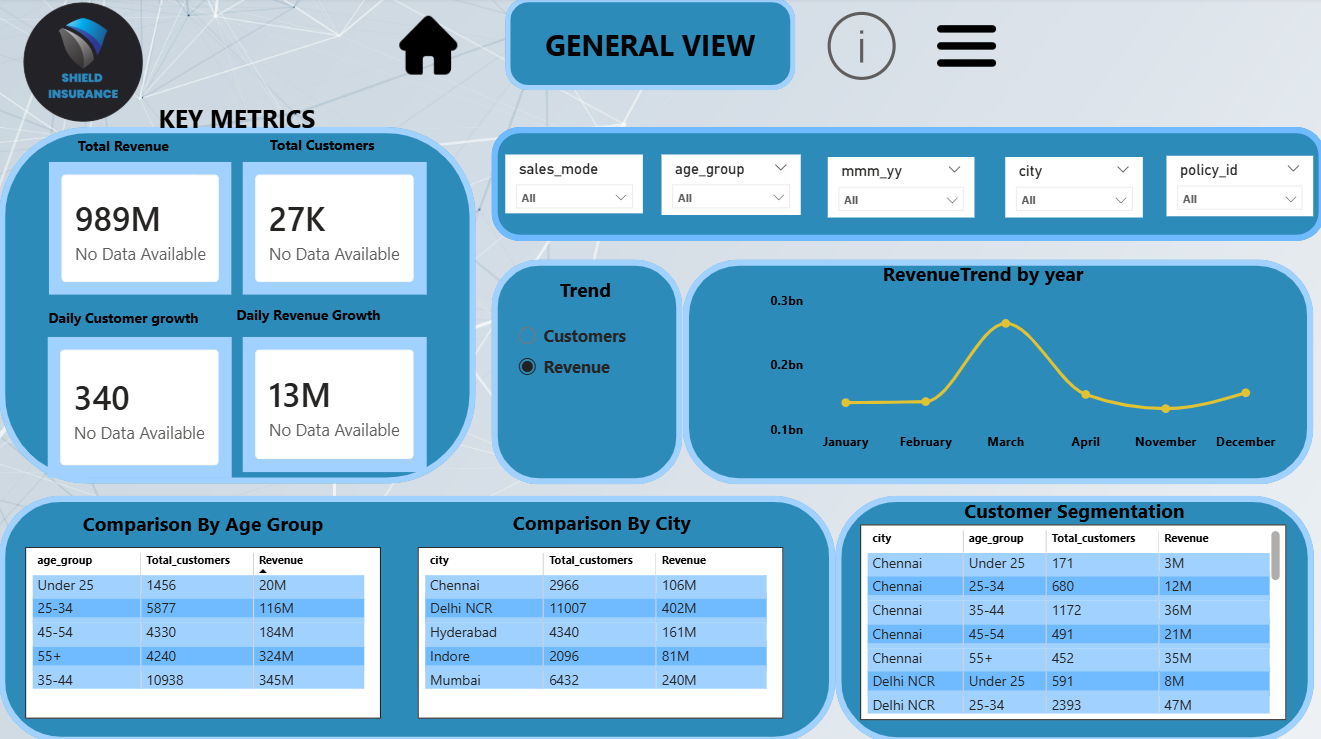

The page's visual inventory and layout, read from the dashboard file:
{"tool":"powerbi","page":{"name":"General View","canvas":[1280,720],"ordinal":1},"visuals":[{"type":"shape","box":[0,481.4,807.1,238.6],"z":0},{"type":"shape","box":[807,481,462,239],"z":1000},{"type":"shape","box":[0,125.7,460,344.3],"z":2000},{"type":"shape","box":[475.7,252.9,184.3,217.1],"z":3000},{"type":"shape","box":[660,252.9,608.6,217.1],"z":4000},{"type":"shape","box":[475.7,125.7,804.3,110],"z":5000},{"type":"cardVisual","fields":{"Data":[" Measures.Total_customers"]},"box":[229.9,154.7,188,138.8],"z":6000},{"type":"cardVisual","fields":{"Data":[" Measures.Total_premium_amount"]},"box":[43.4,154.7,186.5,138.8],"z":7000},{"type":"tableEx","fields":{"Values":["dim_customer.city","dim_customer.age_group"," Measures.Total_customers"," Measures.Total_premium_amount"]},"box":[831.4,508.6,411.4,188.6],"z":8000},{"type":"lineChart","fields":{"Category":["dim_date.date.Variation.Date Hierarchy.Month"],"Y":[" Measures.Selector_trend"]},"box":[740,278.6,502.9,168.6],"z":9000},{"type":"slicer","fields":{"Values":["Trend Selector.Trend"]},"box":[488.6,307.1,151.4,124.3],"z":10000},{"type":"slicer","fields":{"Values":["fact_premiums.sales_mode"]},"box":[488.6,151.4,132.9,57.1],"z":11000},{"type":"slicer","fields":{"Values":["dim_customer.age_group"]},"box":[640,151.4,134.3,58.6],"z":12000},{"type":"slicer","fields":{"Values":["dim_date.mmm_yy"]},"box":[800,154.3,141.4,58.6],"z":13000},{"type":"slicer","fields":{"Values":["dim_customer.city"]},"box":[971.4,154.3,132.9,58.6],"z":14000},{"type":"slicer","fields":{"Values":["dim_policies.policy_id"]},"box":[1127.1,152.9,141.4,58.6],"z":15000},{"type":"image","box":[0,0,162.9,125.7],"z":16000},{"type":"shape","box":[488.6,0,280,90],"z":17000},{"type":"tableEx","fields":{"Values":["dim_customer.age_group"," Measures.Total_customers"," Measures.Total_premium_amount"]},"box":[25.7,531.4,342.9,165.7],"z":18000},{"type":"tableEx","fields":{"Values":["dim_customer.city"," Measures.Total_customers"," Measures.Total_premium_amount"]},"box":[404.3,531.4,352.9,165.7],"z":19000},{"type":"cardVisual","fields":{"Data":[" Measures.Daily Revenue Growth"]},"box":[229.9,323.9,188,140.3],"z":20000},{"type":"cardVisual","fields":{"Data":[" Measures.Daily Customer Growth"]},"box":[41.9,323.9,188,146],"z":21000},{"type":"shape","box":[80,90,300,52.9],"z":22000},{"type":"shape","box":[800,240,300,52.9],"z":23000},{"type":"shape","box":[47.1,481.4,300,52.9],"z":24000},{"type":"shape","box":[431.4,480,300,52.9],"z":25000},{"type":"shape","box":[510,265.7,111.4,32.9],"z":26000},{"type":"shape","box":[0,117.1,240,52.9],"z":27000},{"type":"shape","box":[191.4,115.7,240,52.9],"z":28000},{"type":"shape","box":[0,282.9,240,52.9],"z":29000},{"type":"shape","box":[178.6,280,240,52.9],"z":30000},{"type":"shape","box":[919.4,470.7,237.4,49.4],"z":31000},{"type":"image","title":"Menu Open Button","box":[878.2,9.6,111.1,75.5],"z":32000},{"type":"actionButton","title":"Info Open Button","box":[791.8,5.5,118,82.3],"z":33000},{"type":"image","box":[368,18.1,92.9,56.7],"z":37000}]}

Visuals, with their boxes in screenshot pixels (x1, y1, x2, y2), scaled from the page's 1280x720 canvas onto the 1321x739 screenshot:
shape: 0 494 833 738
shape: 833 494 1310 738
shape: 0 129 475 482
shape: 491 260 681 482
shape: 681 260 1309 482
shape: 491 129 1320 242
cardVisual -  Measures.Total_customers: 237 159 431 301
cardVisual -  Measures.Total_premium_amount: 45 159 237 301
tableEx - dim_customer.city x dim_customer.age_group: 858 522 1283 716
lineChart - dim_date.date.Variation.Date Hierarchy.Month x  Measures.Selector_trend: 764 286 1283 459
slicer - Trend Selector.Trend: 504 315 660 443
slicer - fact_premiums.sales_mode: 504 155 641 214
slicer - dim_customer.age_group: 660 155 799 216
slicer - dim_date.mmm_yy: 826 158 972 219
slicer - dim_customer.city: 1003 158 1140 219
slicer - dim_policies.policy_id: 1163 157 1309 217
image: 0 0 168 129
shape: 504 0 793 92
tableEx - dim_customer.age_group x  Measures.Total_customers: 27 545 380 715
tableEx - dim_customer.city x  Measures.Total_customers: 417 545 781 715
cardVisual -  Measures.Daily Revenue Growth: 237 332 431 476
cardVisual -  Measures.Daily Customer Growth: 43 332 237 482
shape: 83 92 392 147
shape: 826 246 1135 301
shape: 49 494 358 548
shape: 445 493 755 547
shape: 526 273 641 306
shape: 0 120 248 174
shape: 198 119 445 173
shape: 0 290 248 345
shape: 184 287 432 342
shape: 949 483 1194 534
"Menu Open Button" image: 906 10 1021 87
"Info Open Button" actionButton: 817 6 939 90
image: 380 19 476 77
